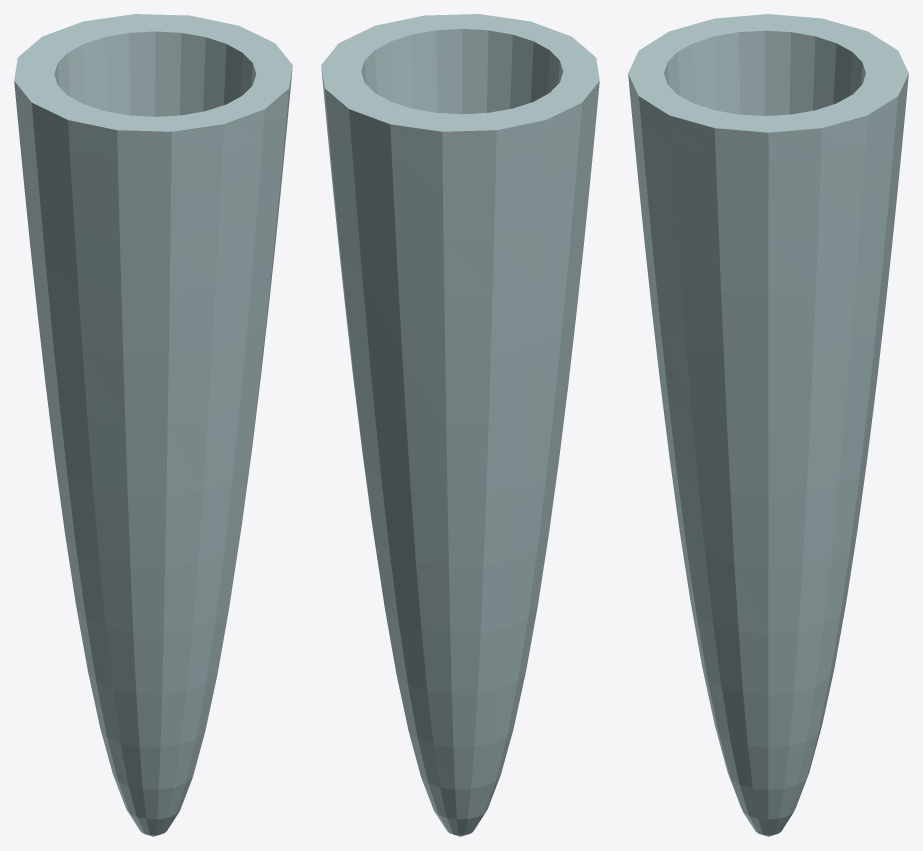
Rendered from Sizzling Amberis-Jaagub.glb.
The picture shows the model from 3 angles, left to right: view 1: azimuth 30°, elevation 25°; view 2: azimuth 150°, elevation 25°; view 3: azimuth 270°, elevation 25°; orthographic projection.
Visible parts, largest first — view 1: Mesh_Mesh_head_geo.001_lambert2SG.001; view 2: Mesh_Mesh_head_geo.001_lambert2SG.001; view 3: Mesh_Mesh_head_geo.001_lambert2SG.001.
Boxes of the visible parts, x1,y1,x2,y2 form: Mesh_Mesh_head_geo.001_lambert2SG.001: [14, 14, 292, 836]; Mesh_Mesh_head_geo.001_lambert2SG.001: [321, 14, 599, 836]; Mesh_Mesh_head_geo.001_lambert2SG.001: [628, 14, 908, 836].
Bounding box in the file's own units: 4 × 12 × 4.
